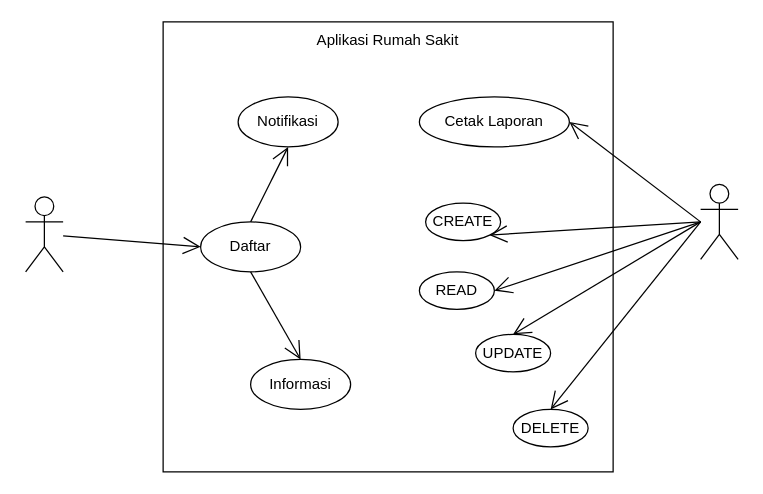
Image size: 763x494. Some labels were removed from this diagram. The centre of each missing label's shape, as x and y in pixels:
"Admin" belongs at (718,221).
"Pasien" belongs at (43,234).
